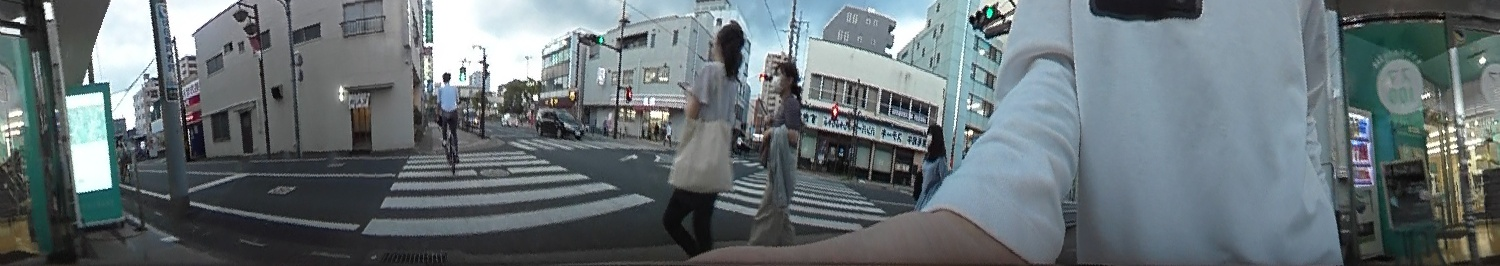difficult_person: (112, 133, 134, 180), (662, 120, 676, 148)
person: (660, 17, 748, 255), (743, 59, 814, 252), (908, 118, 949, 205), (431, 65, 464, 165)
